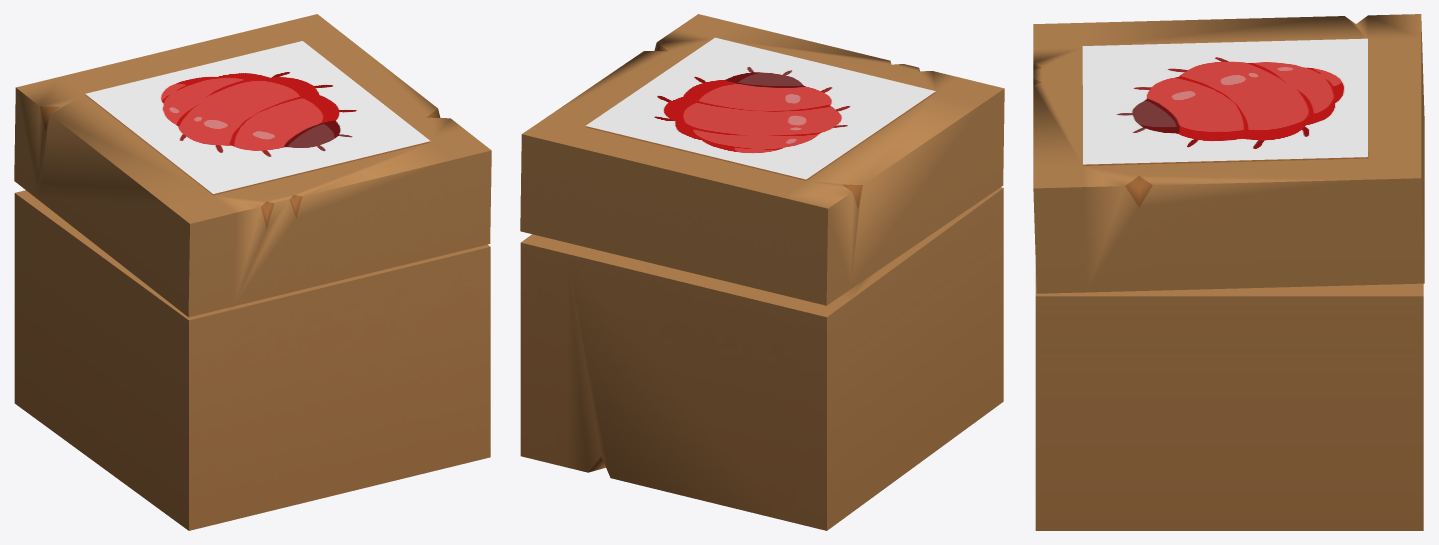
The picture shows the model from 3 angles, left to right: view 1: azimuth 30°, elevation 25°; view 2: azimuth 150°, elevation 25°; view 3: azimuth 270°, elevation 25°; orthographic projection. The views are drawn at different scales.
Parts seen in each view (by area): view 1: Box2, Box3, Box_Icon; view 2: Box2, Box3, Box_Icon; view 3: Box2, Box3, Box_Icon.
Boxes of the visible parts, left/top/right/bottom form: Box2: left=14, top=190, right=490, bottom=530; Box3: left=14, top=14, right=491, bottom=317; Box_Icon: left=85, top=41, right=430, bottom=193; Box2: left=520, top=187, right=1003, bottom=530; Box3: left=520, top=14, right=1004, bottom=305; Box_Icon: left=586, top=37, right=935, bottom=179; Box2: left=1035, top=266, right=1423, bottom=530; Box3: left=1033, top=14, right=1424, bottom=293; Box_Icon: left=1082, top=38, right=1367, bottom=164.
Bounding box in the file's own units: 95.23 × 95.47 × 95.99.
Materials: 2 (2 with a texture image).
